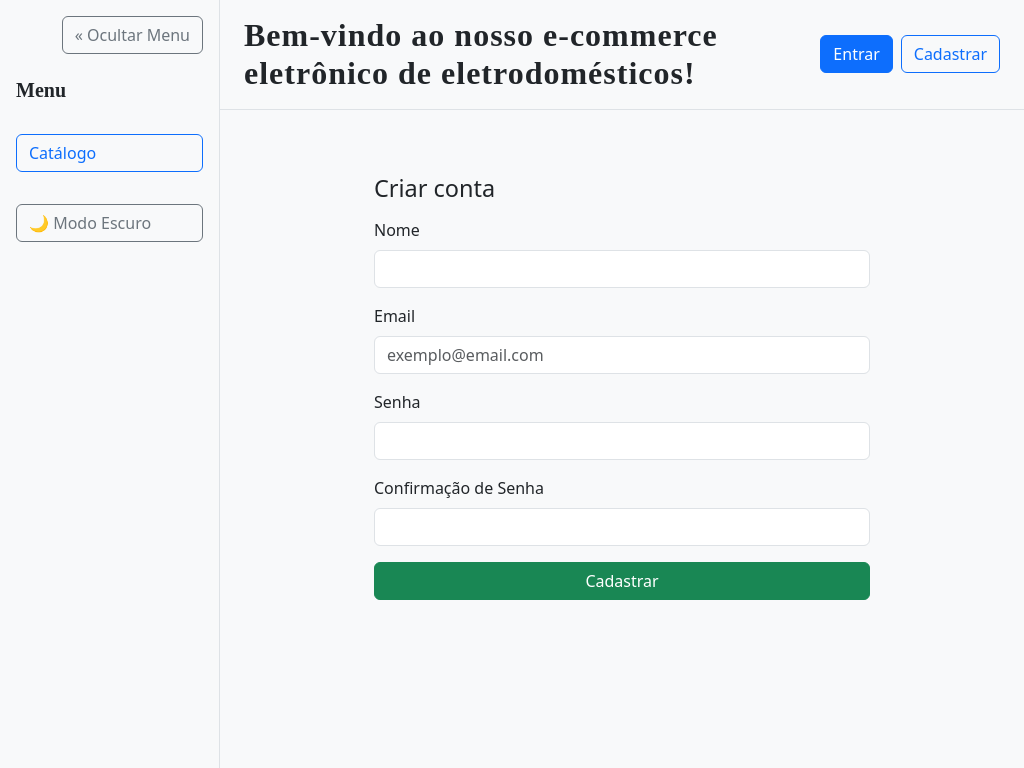
Scenario: Cadastro de Usuário › deve mostrar erro com email inválido
This screenshot has width=1024, height=768.
Type "Edivaldo José dos Santos" into the field named "nome" at [622, 269], box [374, 250, 870, 288]
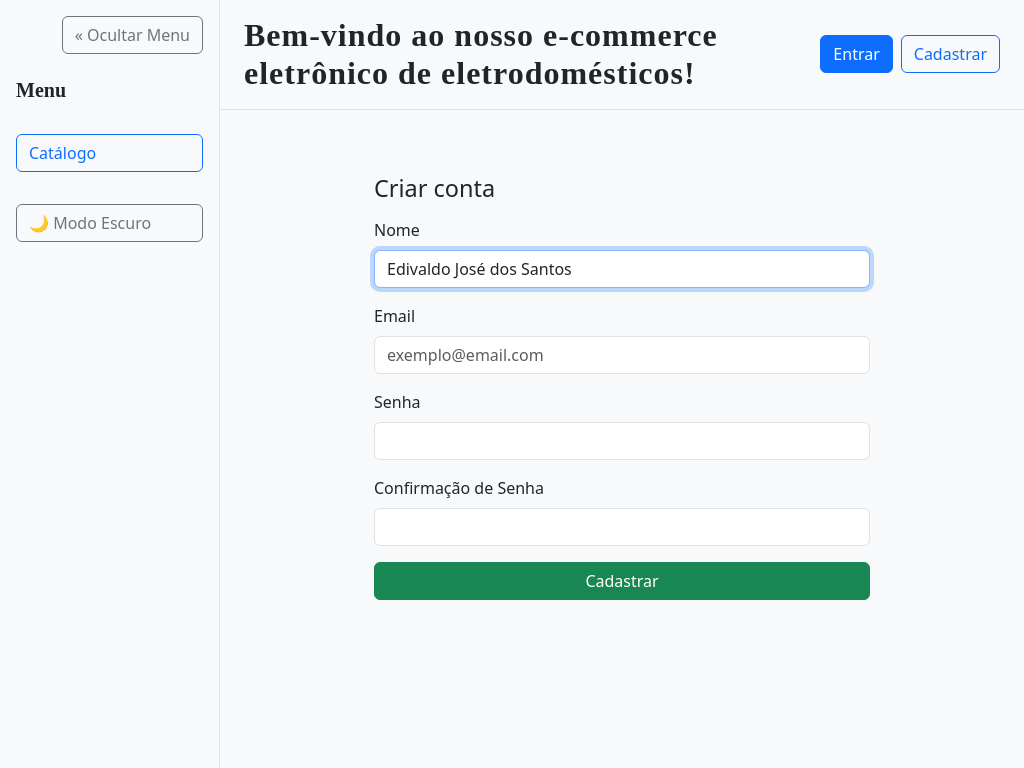
Type "emailinvalido" into the field named "email" at [622, 355], box [374, 336, 870, 374]
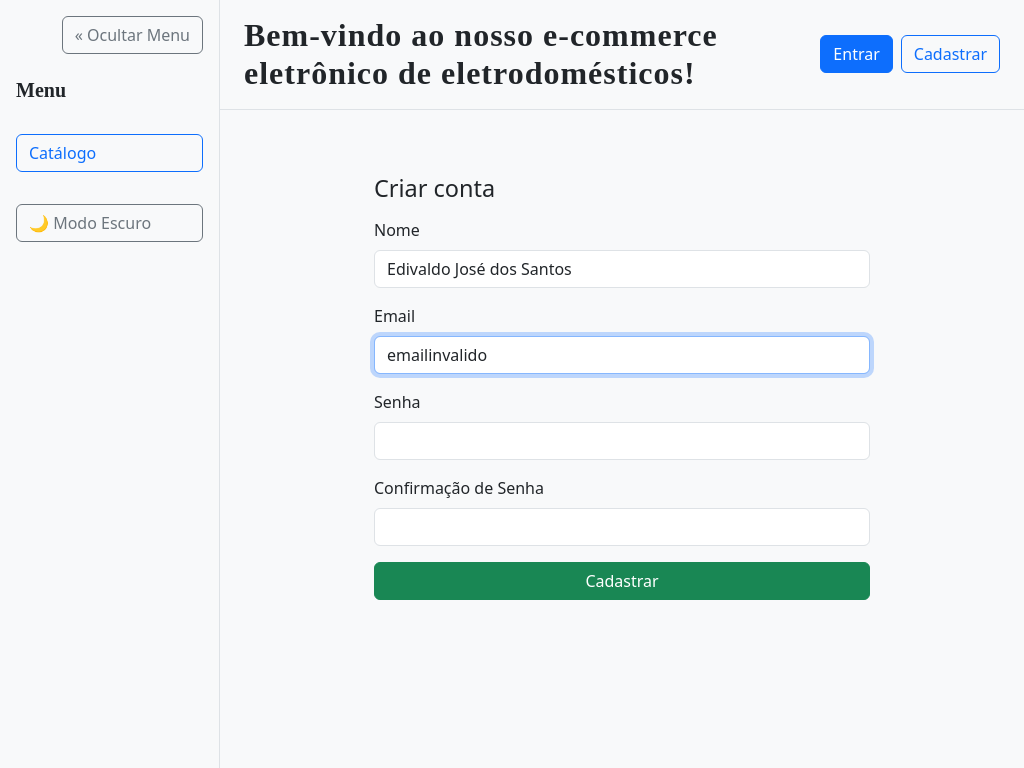
Type "senha123" into the 1st password field named "senha" at [622, 441], box [374, 422, 870, 460]
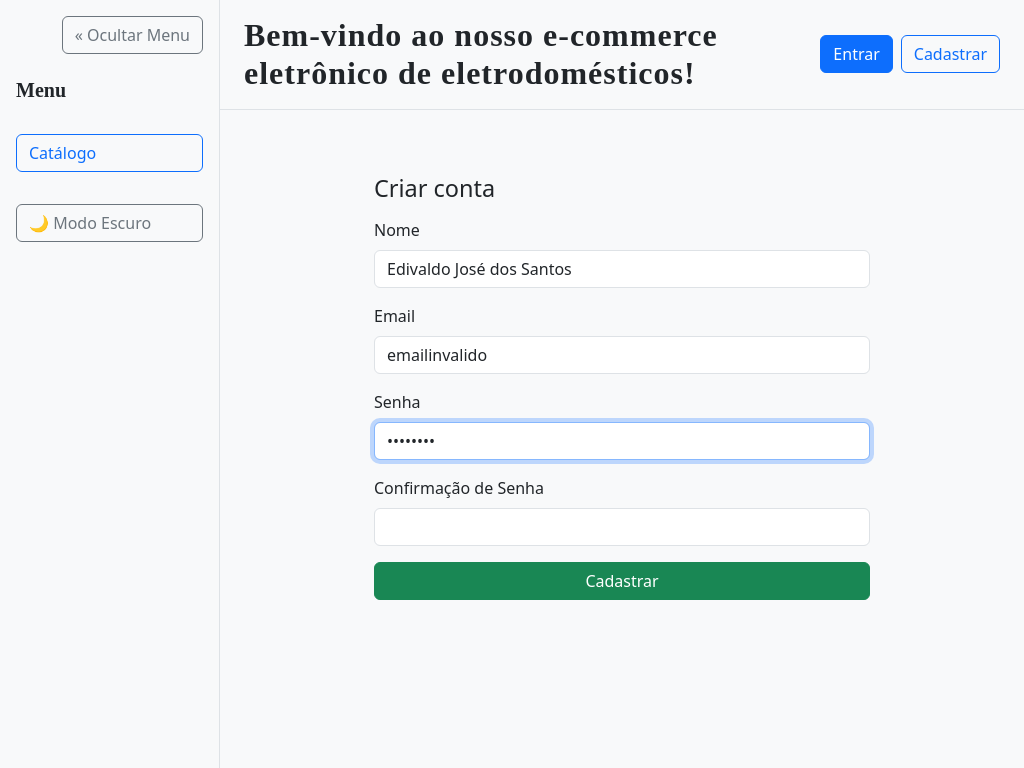
Type "senha123" into the password field named "confirmacaoSenha" below "Confirmação de Senha" at [622, 527], box [374, 508, 870, 546]
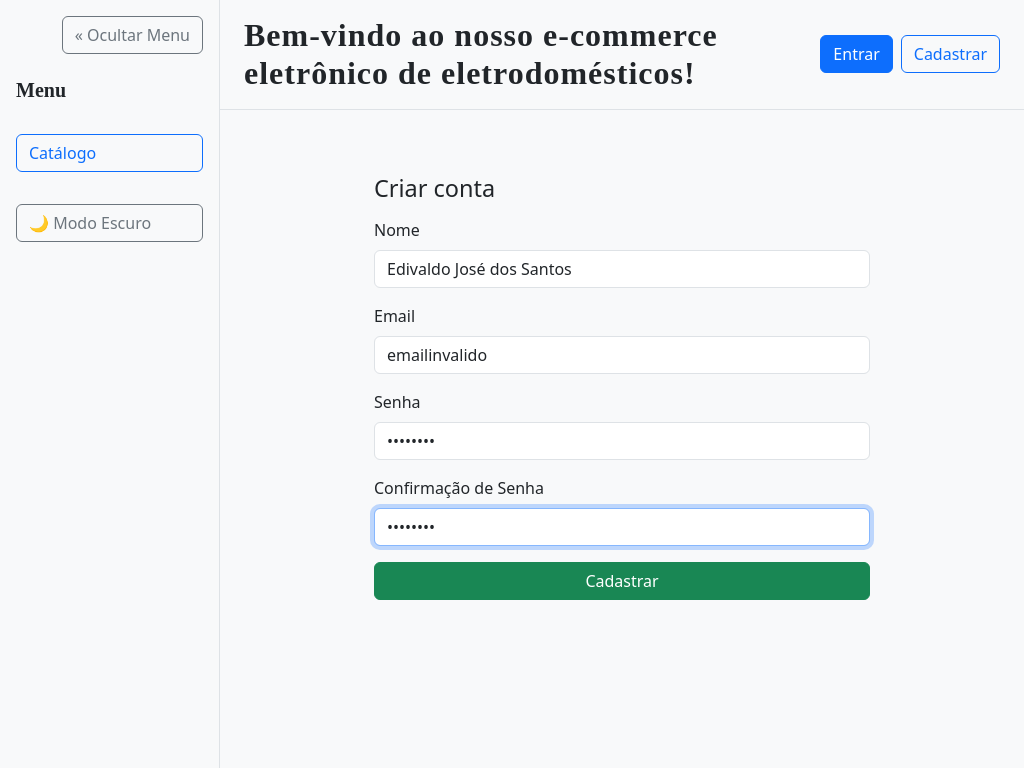
Click the button named "submit" at [622, 581], box [374, 562, 870, 600]
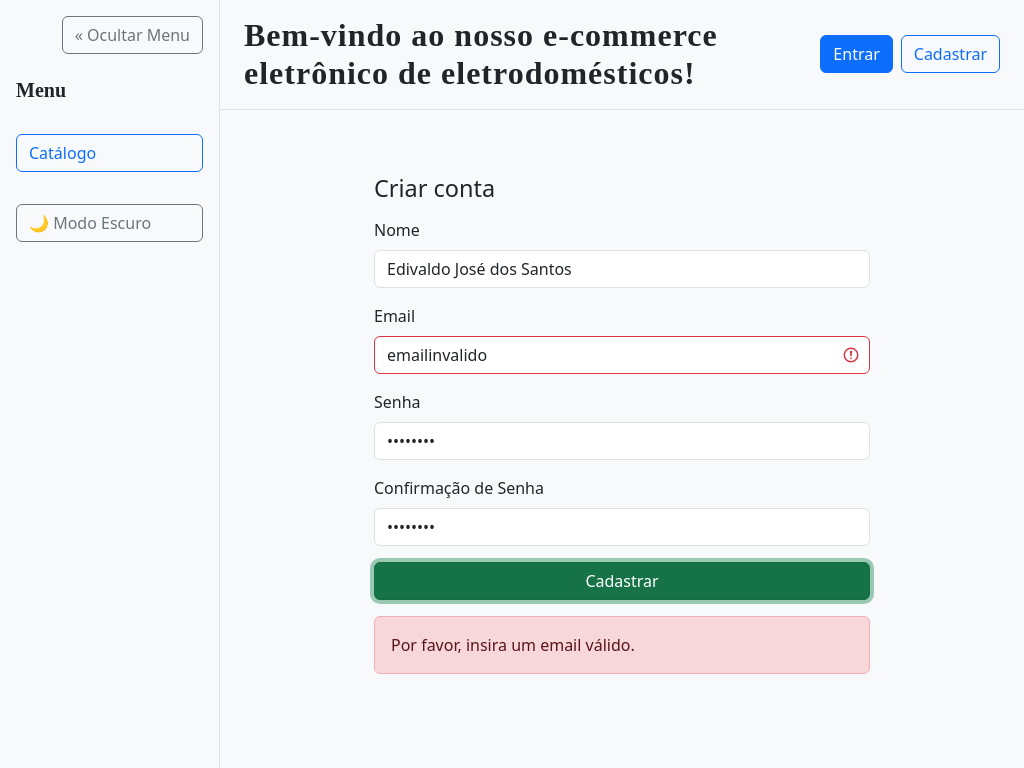
Check: the text "email válido" is shown, box [391, 634, 635, 656]
